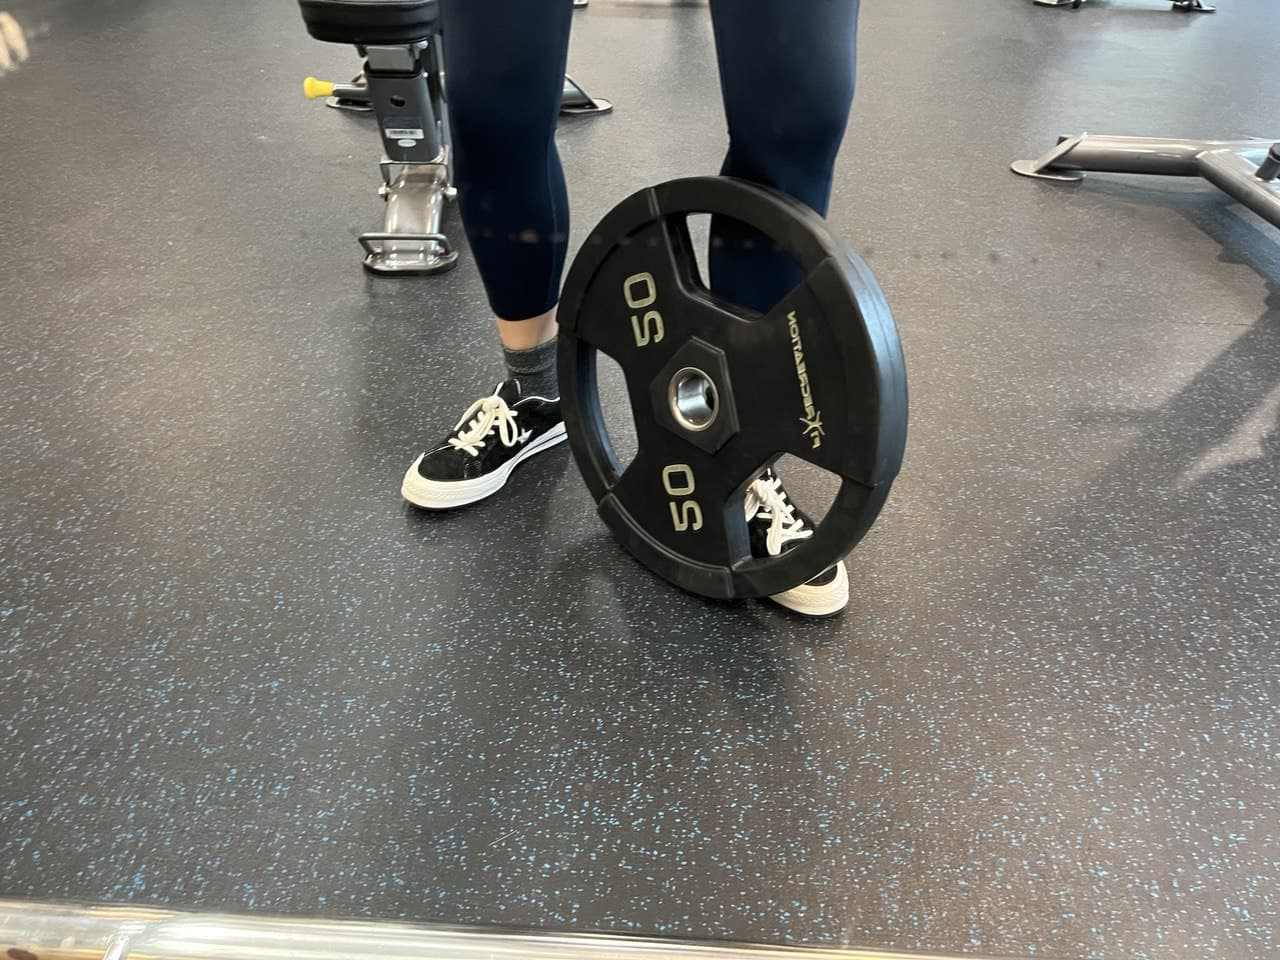weights: (552, 173, 908, 611)
